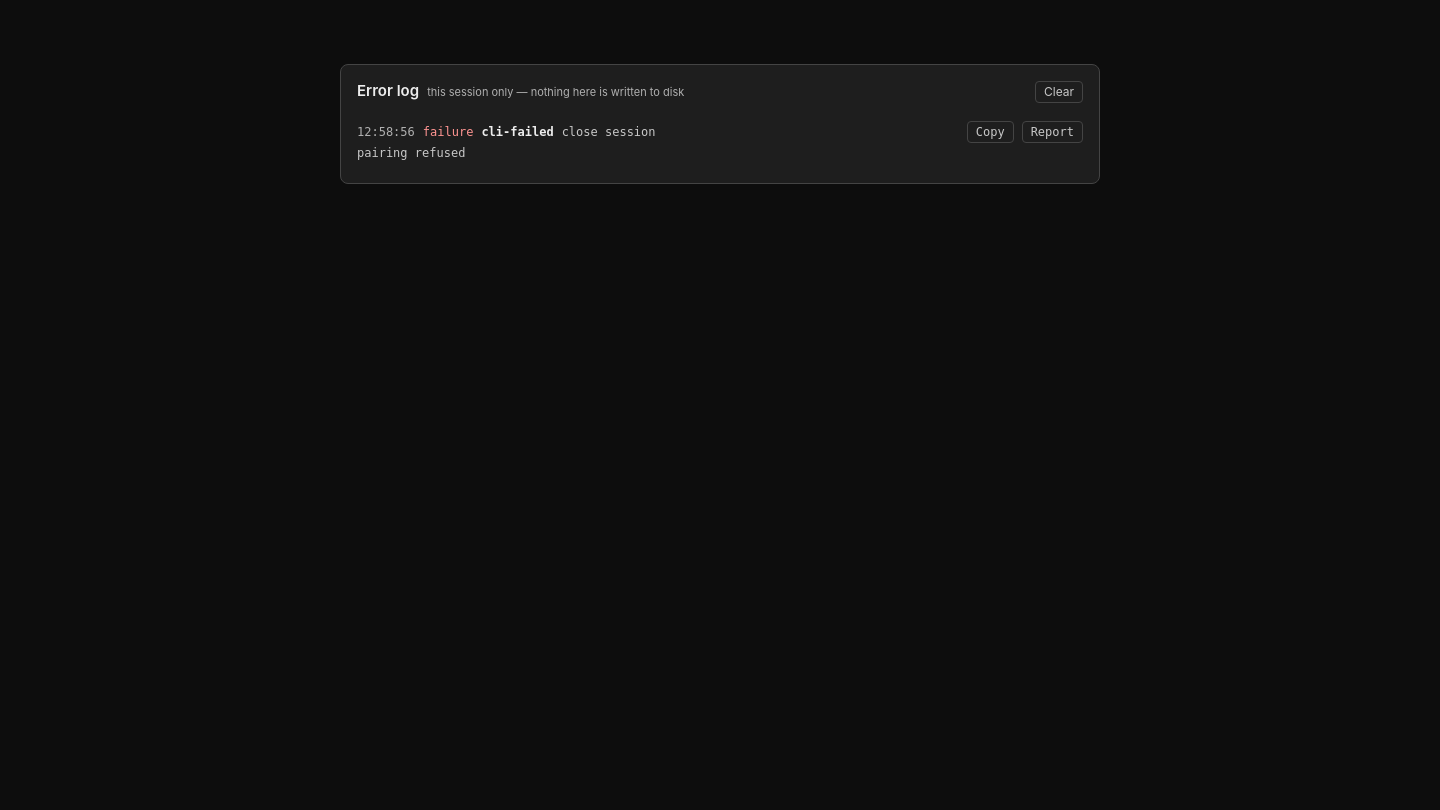
Scenario: ErrorLogPanel › clears the log on request
Click the button "Clear" at (1059, 92), box [1035,81,1083,103]
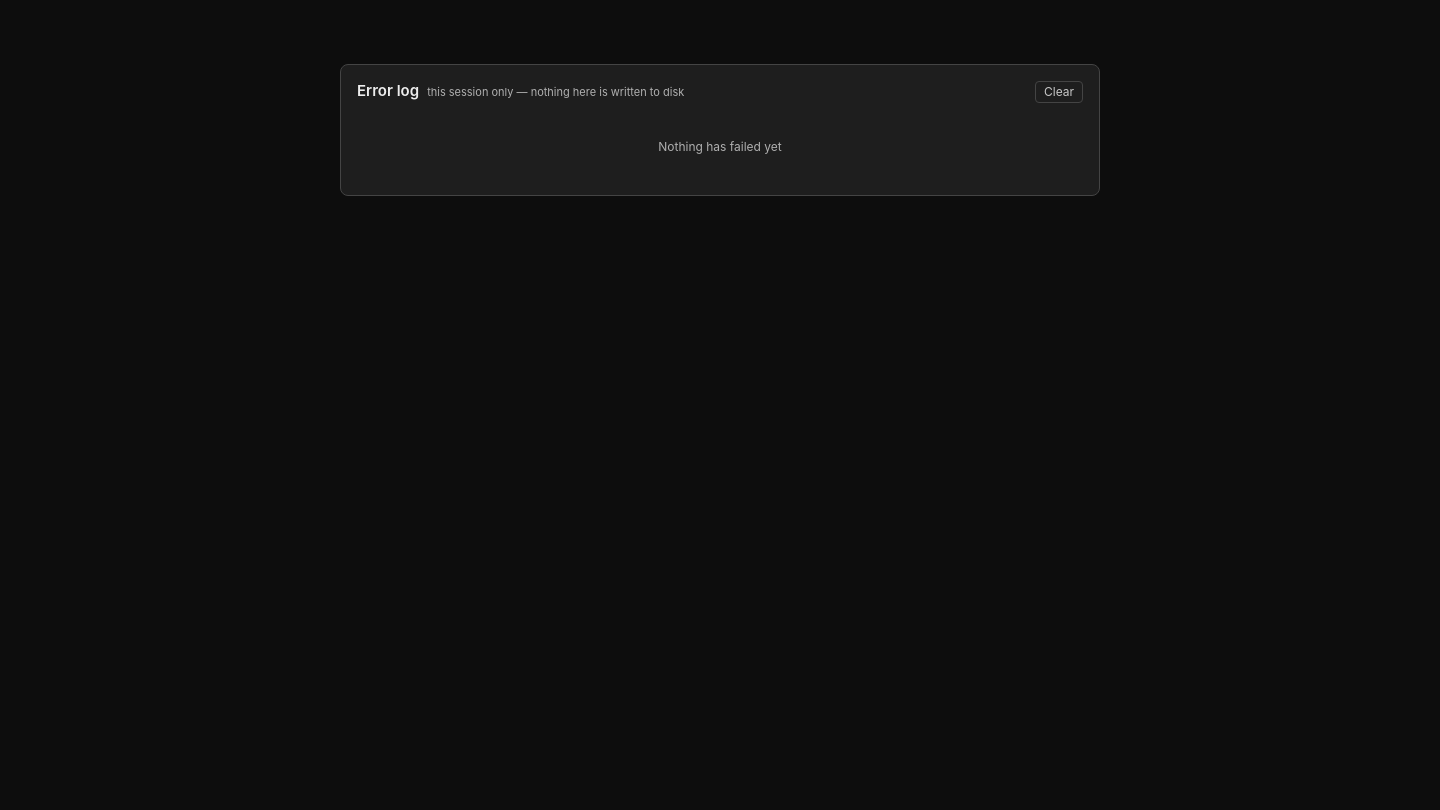
Now the text "Nothing has failed yet" is shown, box [658,139,782,154]
